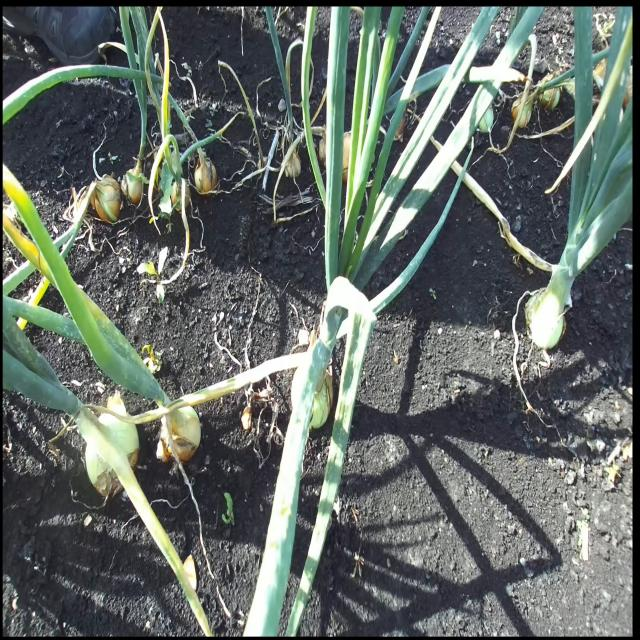onion: (76, 405, 140, 498), (157, 402, 201, 464), (92, 173, 122, 224), (309, 368, 333, 431), (120, 157, 148, 206), (194, 148, 218, 195)
